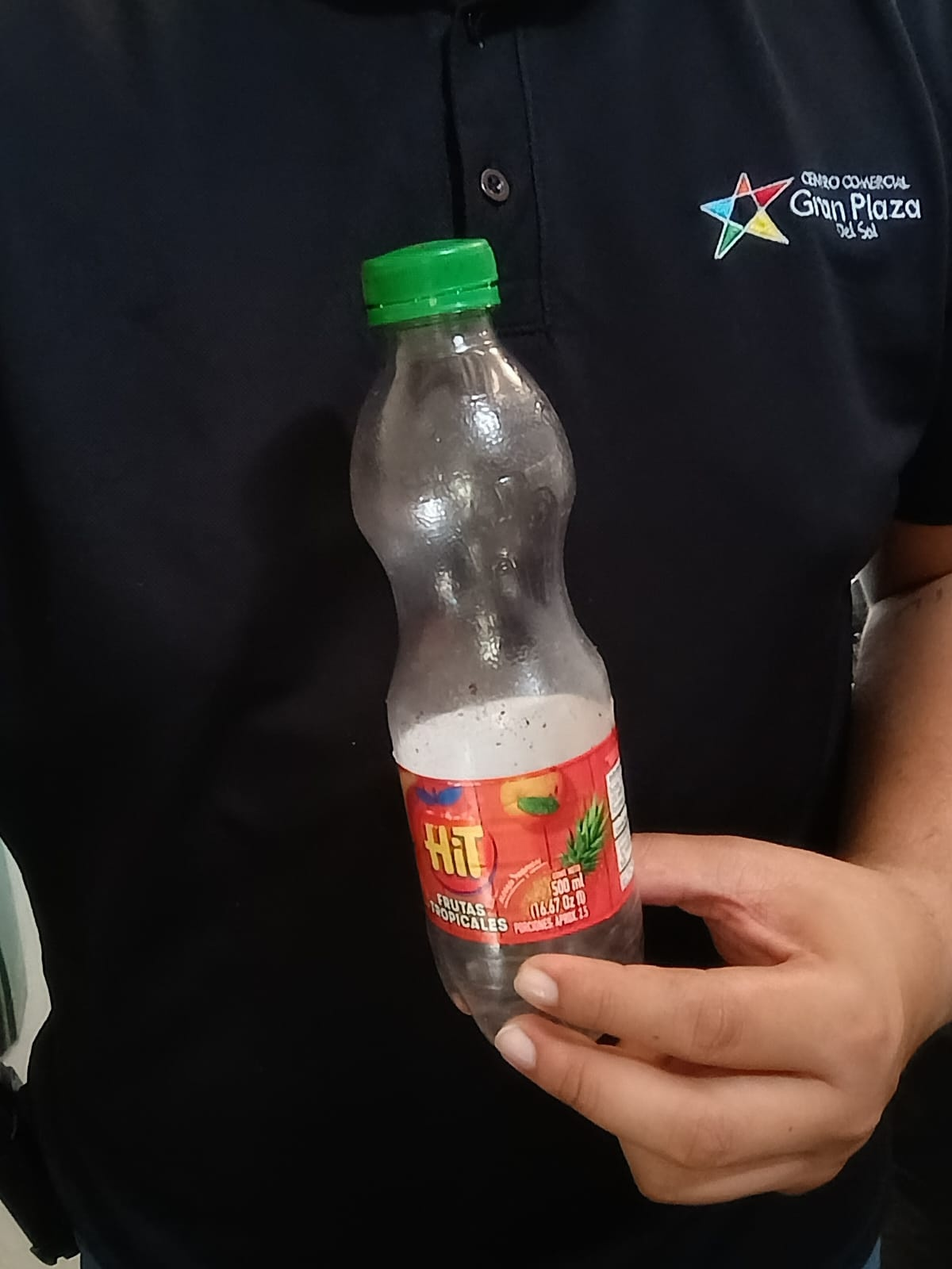Plastico: (347, 239, 643, 1041)
